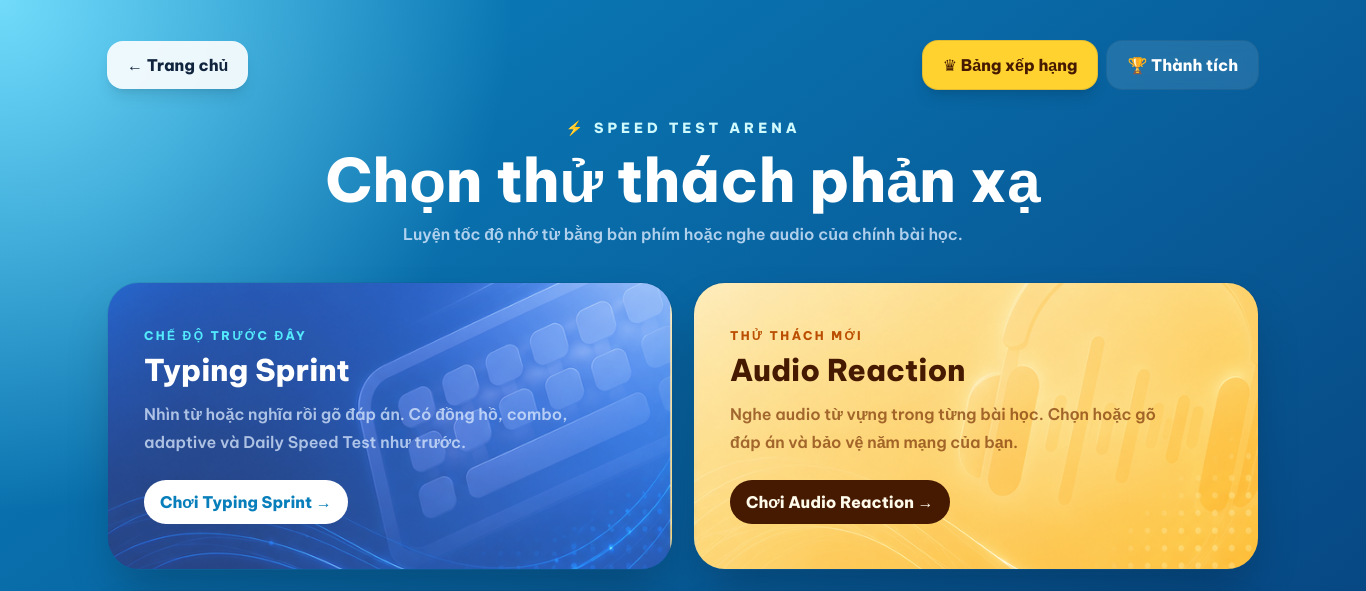
Test: SpeedTestArena › chọn bài học trước khi mở Typing Sprint từ Arena tổng
Click the button named "Chơi Typing Sprint" at (390, 426), box [107, 282, 673, 570]
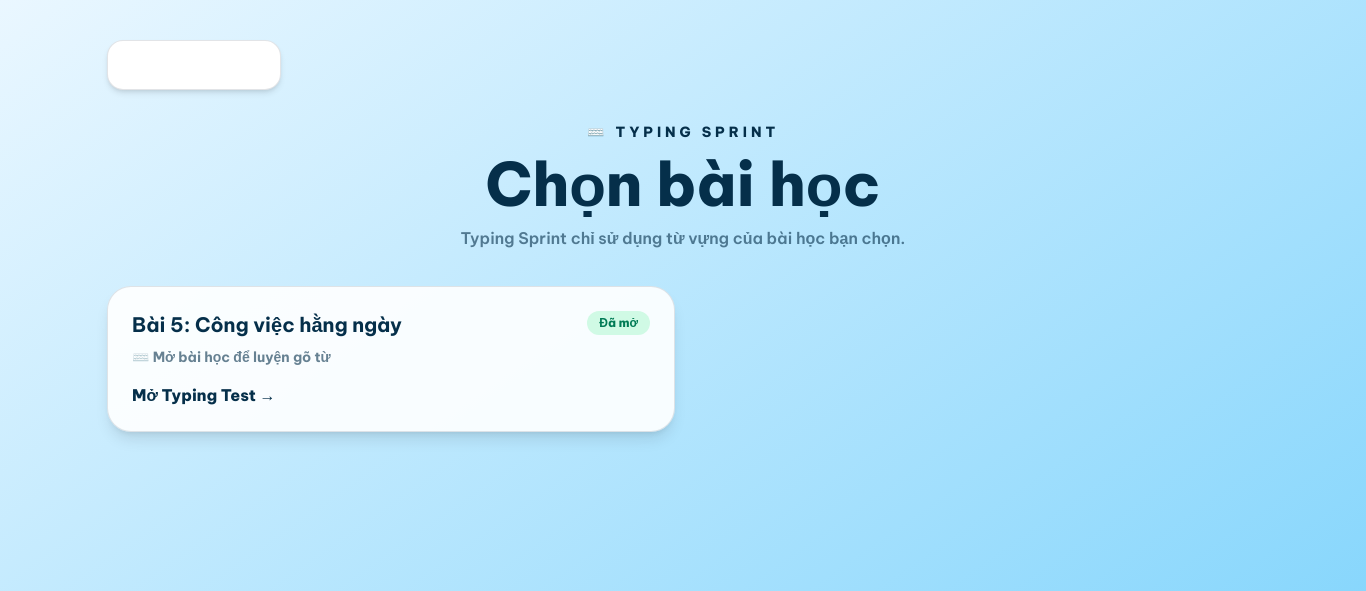
Result: the heading "Chọn bài học" is shown at [486, 146, 880, 222]
